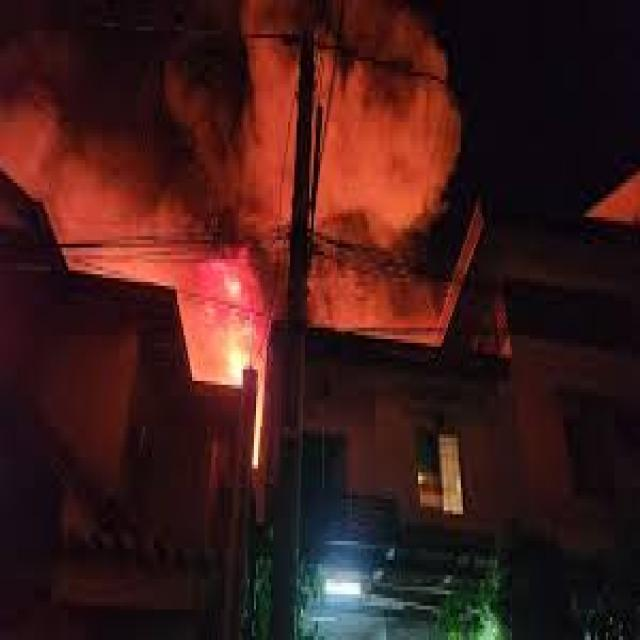Fire: (202, 278, 262, 405)
Smoke: (0, 0, 471, 240)
